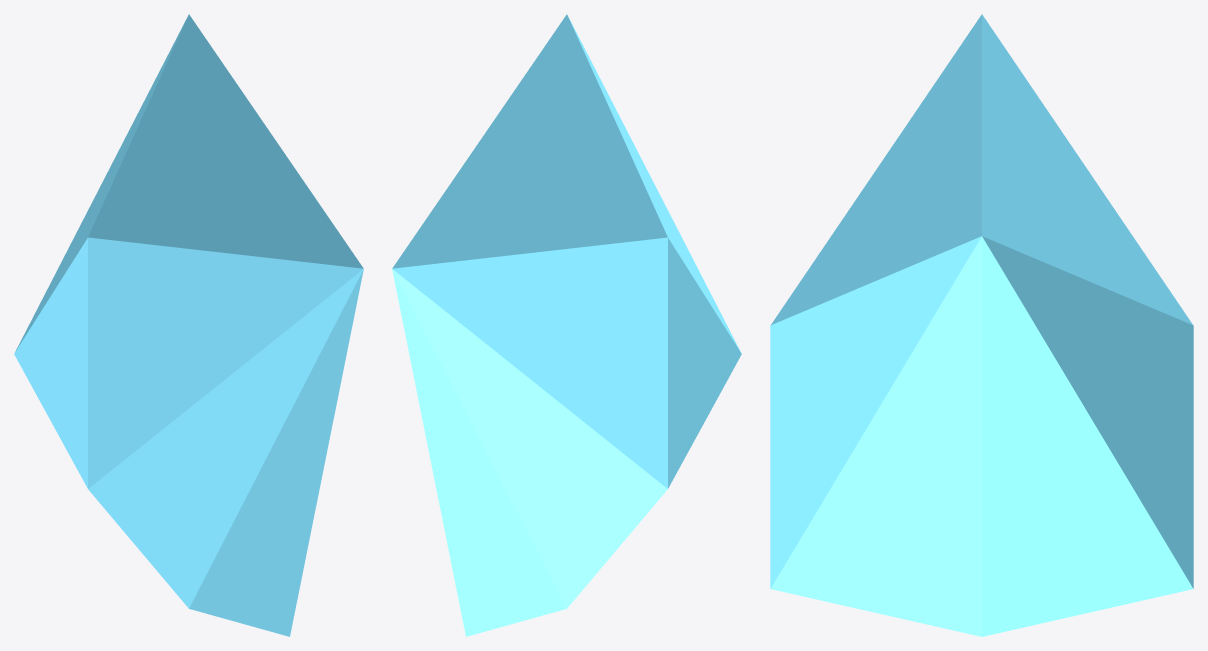
The model's file is arcane-crystal.glb.
3 renders of one model, left to right at view 1: azimuth 30°, elevation 25°; view 2: azimuth 150°, elevation 25°; view 3: azimuth 270°, elevation 25°, orthographic. The views are drawn at different scales.
Parts seen in each view (by area): view 1: ArcaneCrystal; view 2: ArcaneCrystal; view 3: ArcaneCrystal.
Boxes of the visible parts, x1,y1,x2,y2 form: ArcaneCrystal: (14, 14, 363, 636); ArcaneCrystal: (392, 14, 741, 636); ArcaneCrystal: (770, 14, 1193, 636).
Size of the model in its own units: 1.6 by 2.6 by 1.6.
